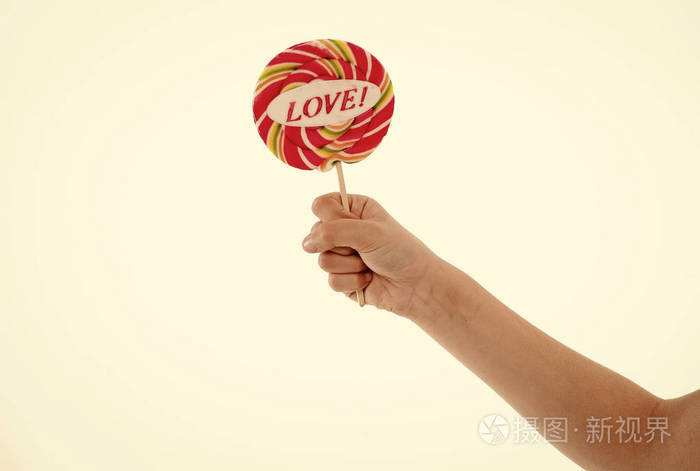no-phone: (248, 40, 462, 333)
